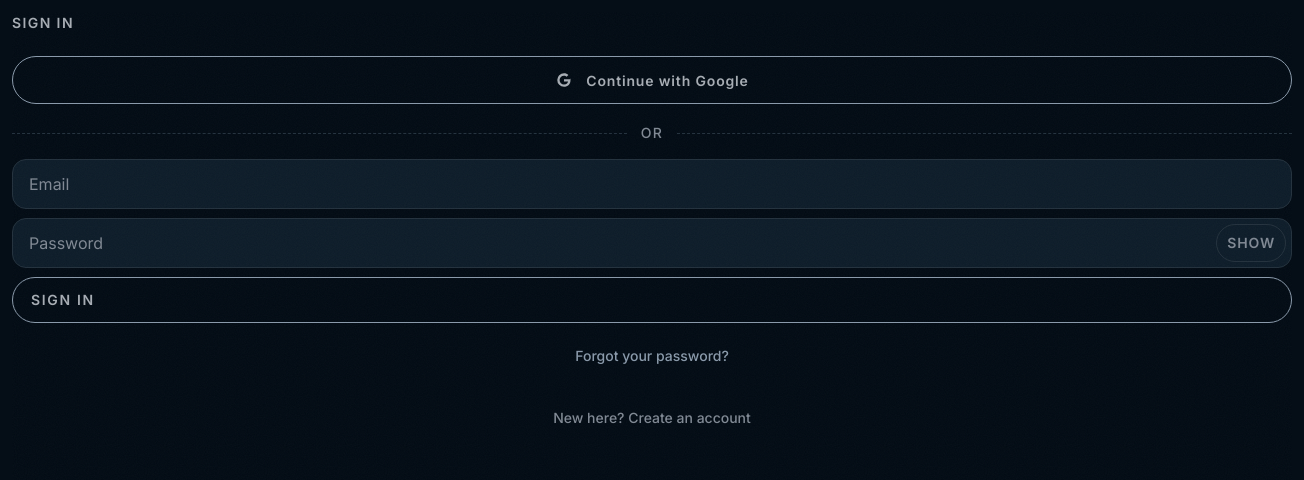
it: AuthForm › says a sign-in failed instead of failing silently
This screenshot has width=1304, height=480.
Type "ada@example.com" into the field labelled "Email" at (652, 184), box [12,159,1292,209]
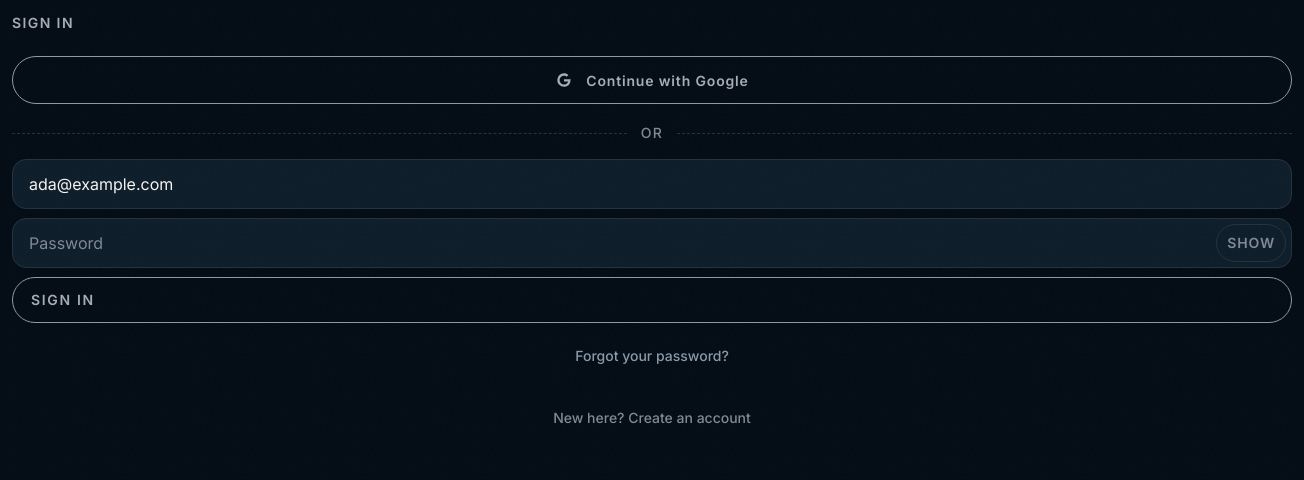
Type "hunter2222" into the password field labelled "Password" at (652, 243), box [12,218,1292,268]
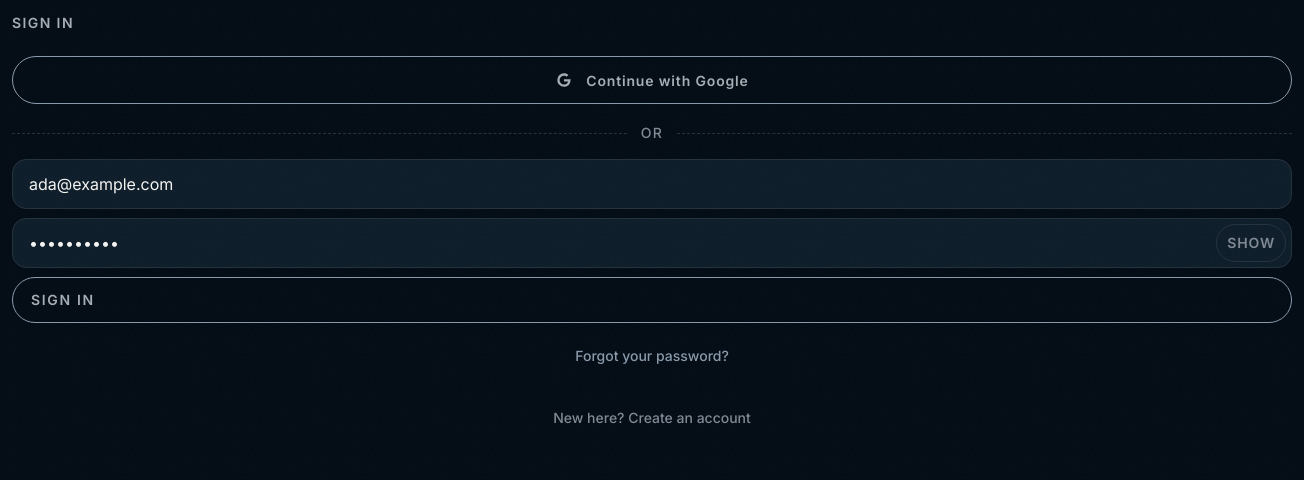
Click the button "Sign in" at (63, 300), box [12,277,1292,323]
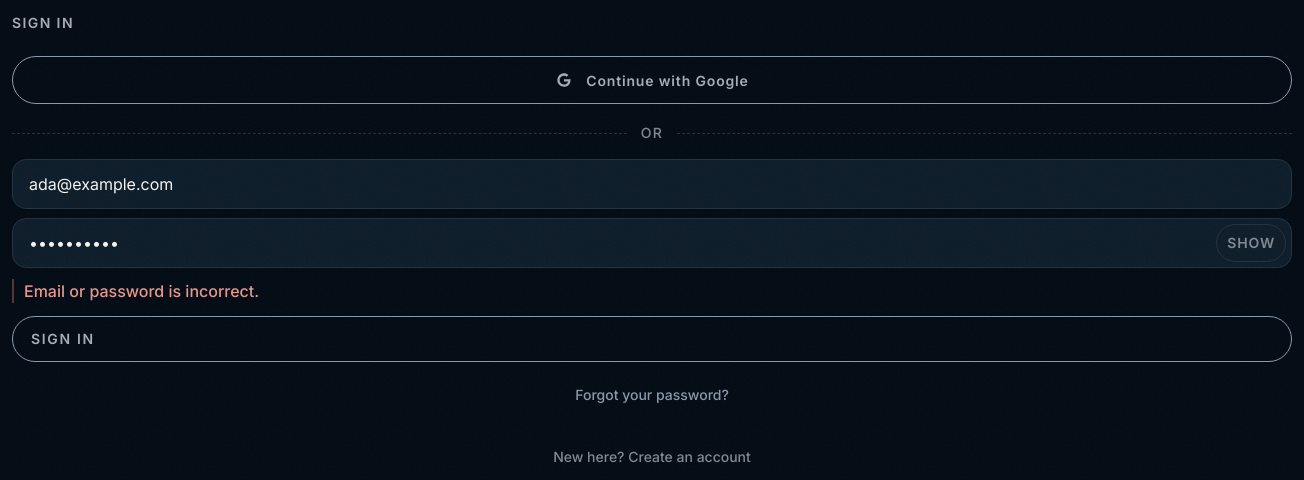
Result: the message reads "Email or password is incorrect." at [24,281,259,301]
